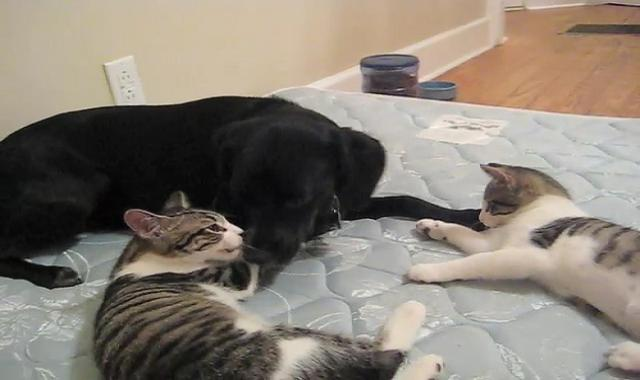cat: (86, 213, 461, 380), (436, 146, 640, 360)
dog: (7, 88, 420, 259)
